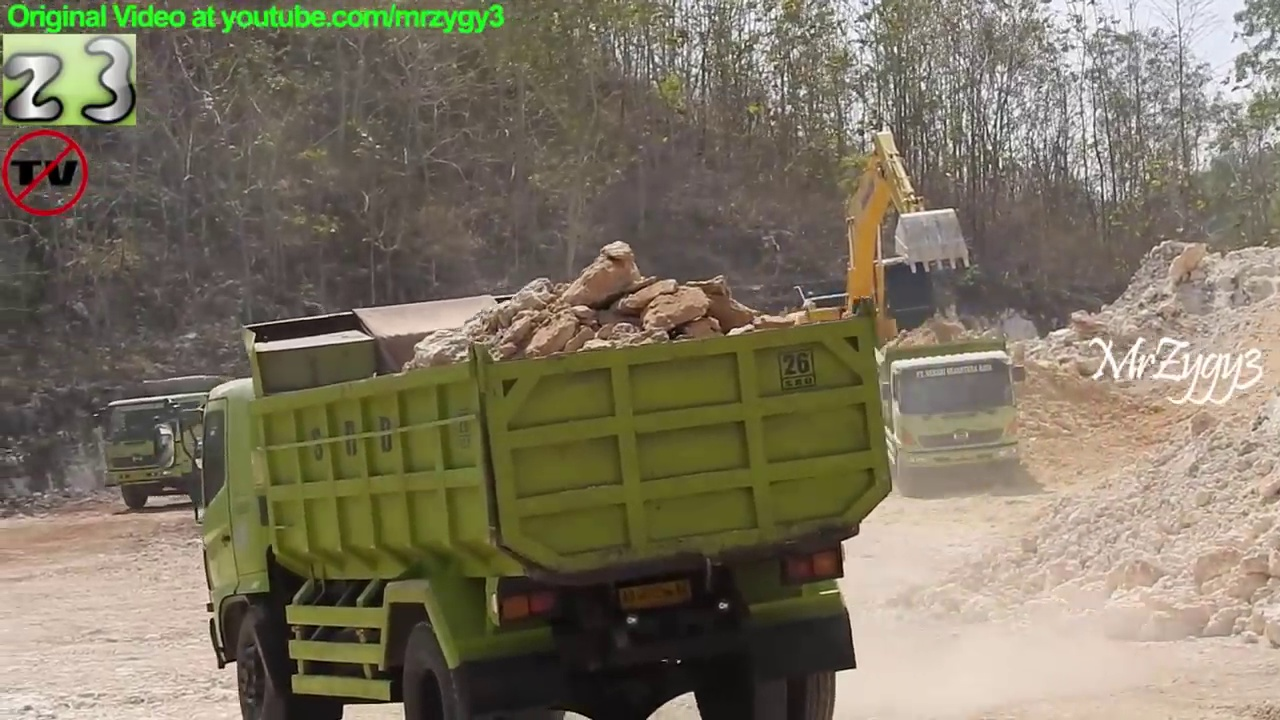excavator: (710, 120, 984, 428)
truck: (151, 292, 896, 720), (88, 375, 358, 514), (860, 334, 1031, 498)
